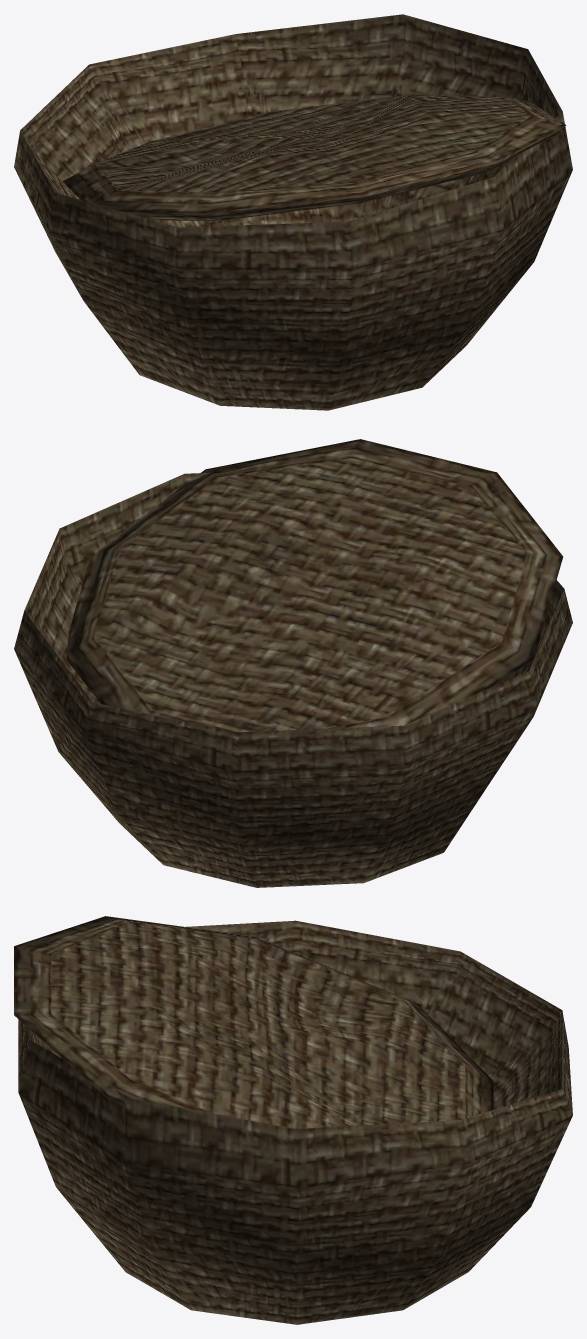
File: edb_con_tato_basket_s01_l0.fbx
3 views of the same model, one above another, from view 1: azimuth 30°, elevation 25°; view 2: azimuth 150°, elevation 25°; view 3: azimuth 270°, elevation 25° (orthographic). The views are drawn at different scales.
Parts seen in each view (by area): view 1: mesh_node; view 2: mesh_node; view 3: mesh_node.
Boxes of the visible parts, <box> form: mesh_node: <box>14,14,572,410</box>; mesh_node: <box>14,439,572,887</box>; mesh_node: <box>14,916,572,1324</box>.
Size of the model in its own units: 1.01 by 0.5159 by 0.9734.
1 material, 1 textured.
